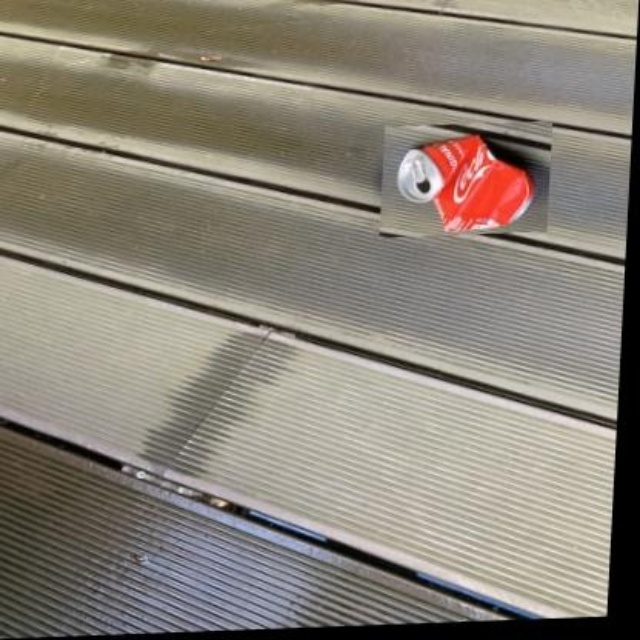trash: (397, 134, 532, 232)
